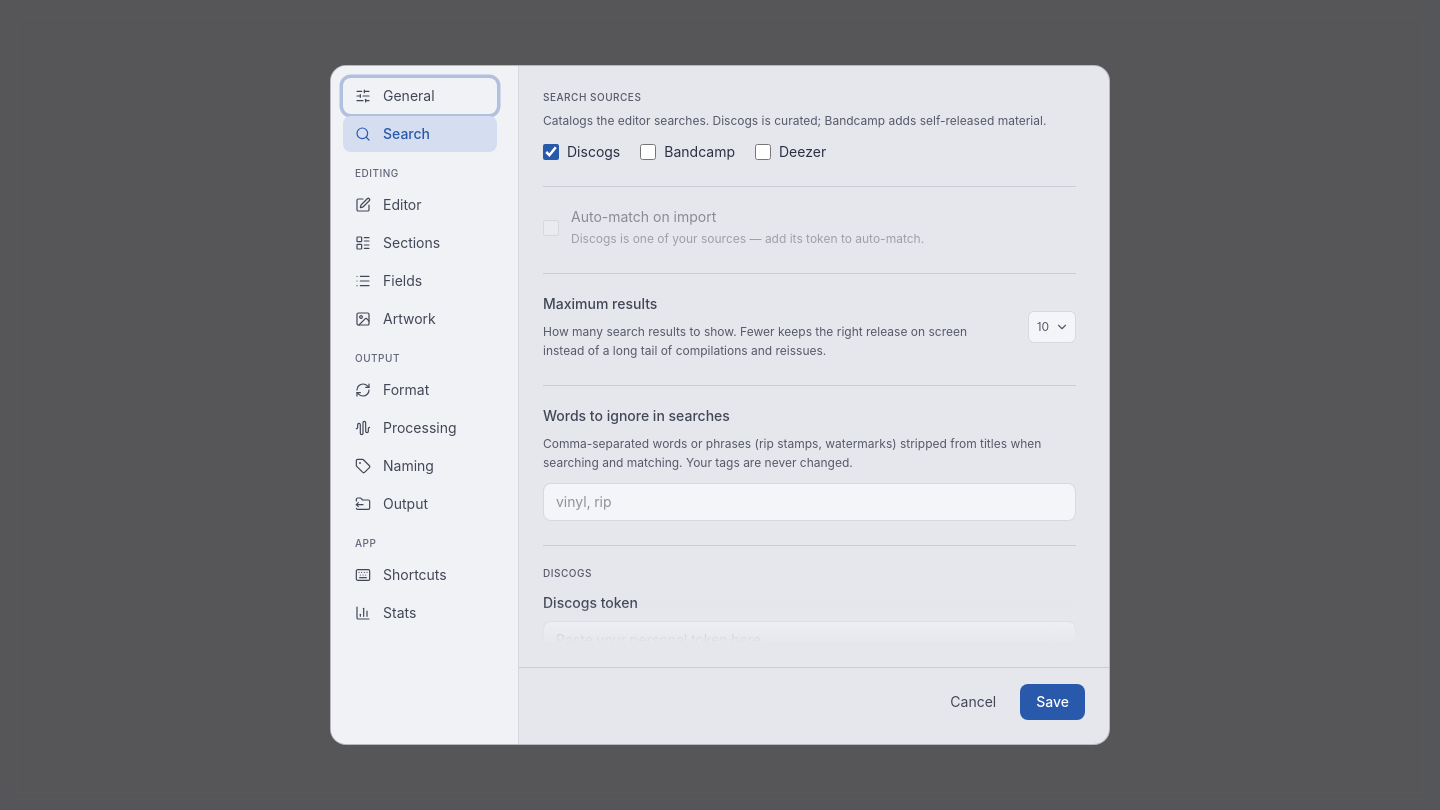
SettingsModal auto-match › enables auto-match for a Bandcamp-only setup without a Discogs token
What coordinates should you click on to do the following:
click the checkbox with test id "settings-provider-discogs"
I would click on:
 (551, 152)
Its box is [543, 144, 559, 160].
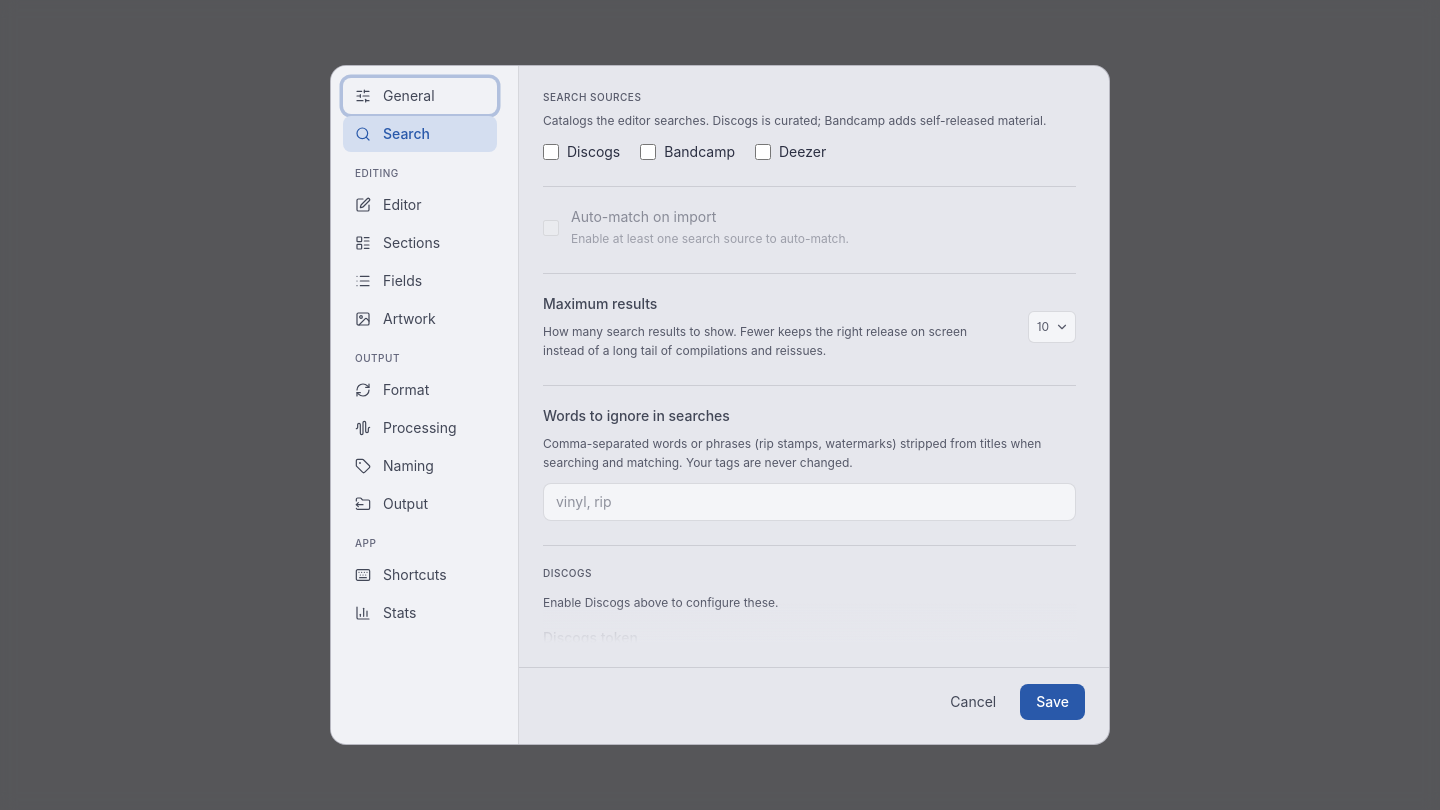
What coordinates should you click on to do the following:
click the checkbox with test id "settings-provider-bandcamp"
I would click on:
 (648, 152)
Its box is [640, 144, 656, 160].
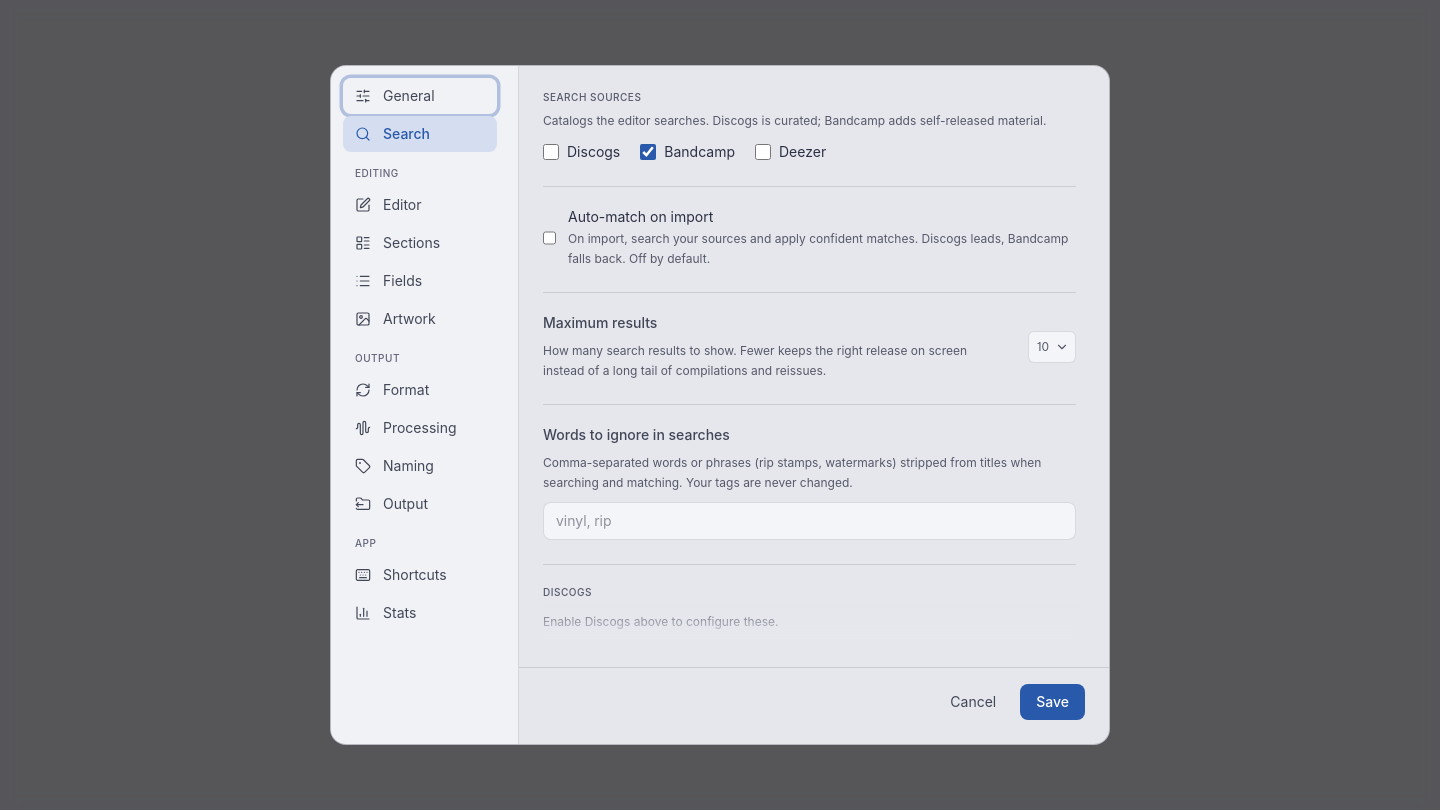
Now the checkbox with test id "settings-auto-match" is enabled, box [543, 230, 556, 246]
